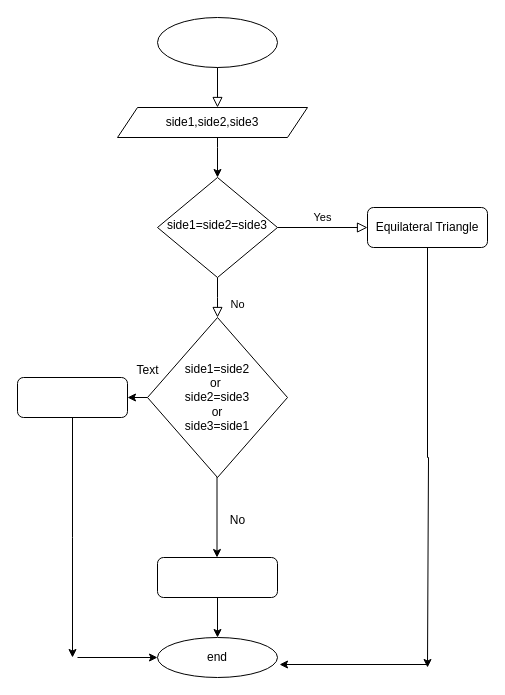
Some shapes in this 505 by 695 pixel diagram are drawn without their labels. Here are the shapes that lost their labels. From the top down, the box of each, then its label:
(156, 16, 278, 68): Start
(16, 376, 128, 418): Iscoscles Triangle
(156, 556, 278, 598): Scalene Triangle
